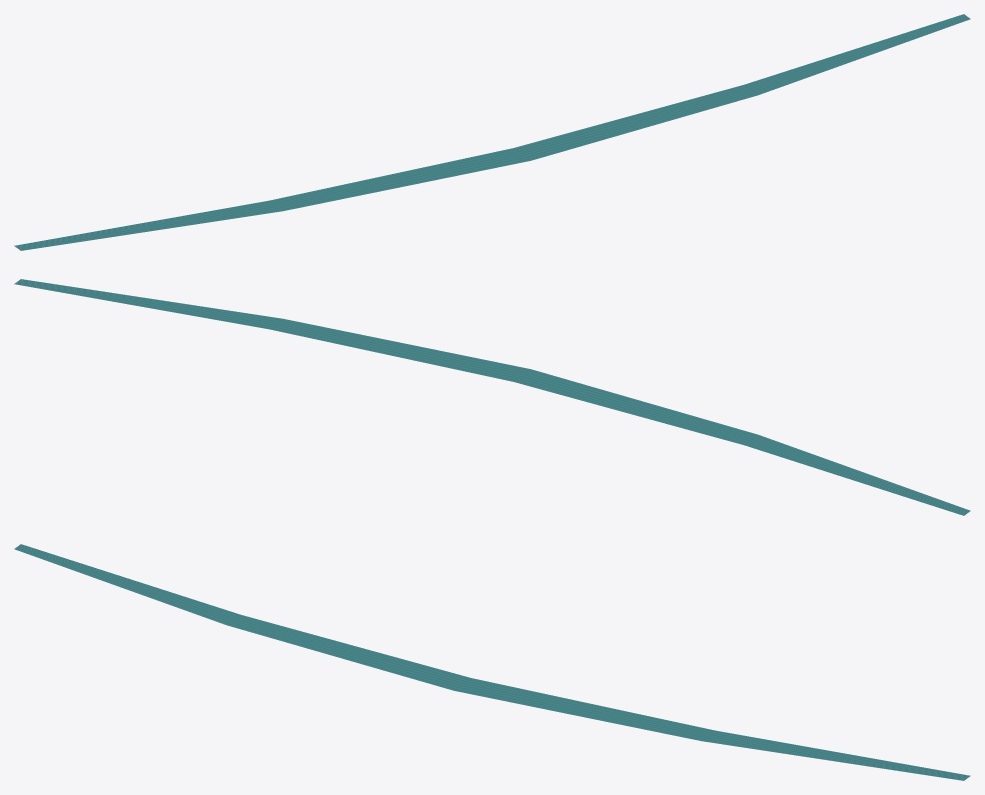
Rendered from hex_river_overlay_straight.glb.
3 renders of one model, top to bottom at view 1: azimuth 30°, elevation 25°; view 2: azimuth 150°, elevation 25°; view 3: azimuth 330°, elevation 25°, orthographic.
Visible parts, largest first — view 1: Ambient interior water shimmer; view 2: Ambient interior water shimmer; view 3: Ambient interior water shimmer.
Boxes of the visible parts, bbox=[...] form: Ambient interior water shimmer: bbox=[14, 14, 970, 250]; Ambient interior water shimmer: bbox=[14, 279, 970, 515]; Ambient interior water shimmer: bbox=[14, 544, 970, 780].
Size of what is drawn, in the model's own units: 0.22 by 0 by 0.0169.
Materials: 1 (1 with a texture image).
